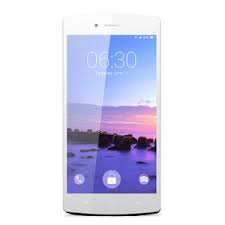bphone: (57, 9, 163, 216)
